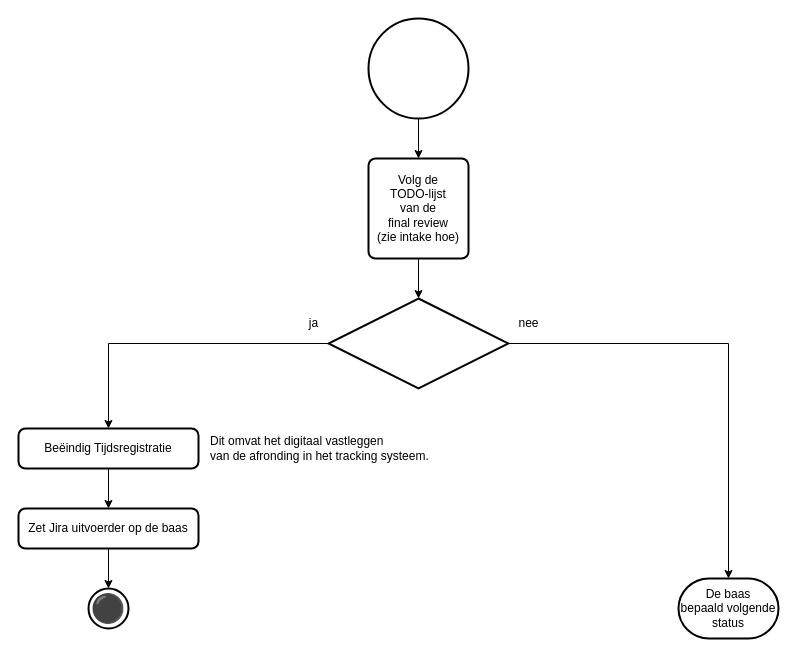
The diagram is 796 pixels wide and 656 high, and some of its shapes have lost their labels. The centre of each missing label's shape, as x and y in pixels:
"Final review akkoord?" goes at (x=418, y=343).
"Status = review final" goes at (x=418, y=68).
